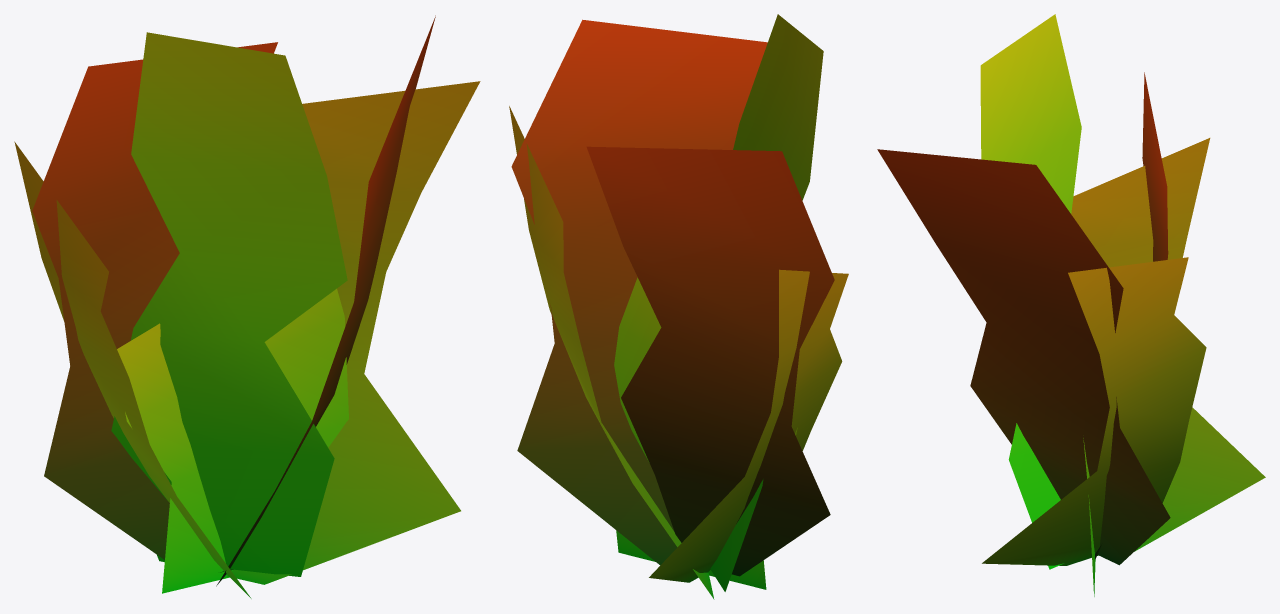
The model's file is Var8Hi21.fbx.
3 views of the same model, side by side, from view 1: azimuth 30°, elevation 25°; view 2: azimuth 150°, elevation 25°; view 3: azimuth 270°, elevation 25° (orthographic). The views are drawn at different scales.
Visible parts, largest first — view 1: bend1; view 2: bend1; view 3: bend1.
Part boxes in pixels (x1,y1,x2,y2): bend1: (14, 15, 480, 598); bend1: (509, 14, 848, 599); bend1: (877, 14, 1265, 596).
Bounding box in the file's own units: 1.26 × 1.76 × 1.24.
